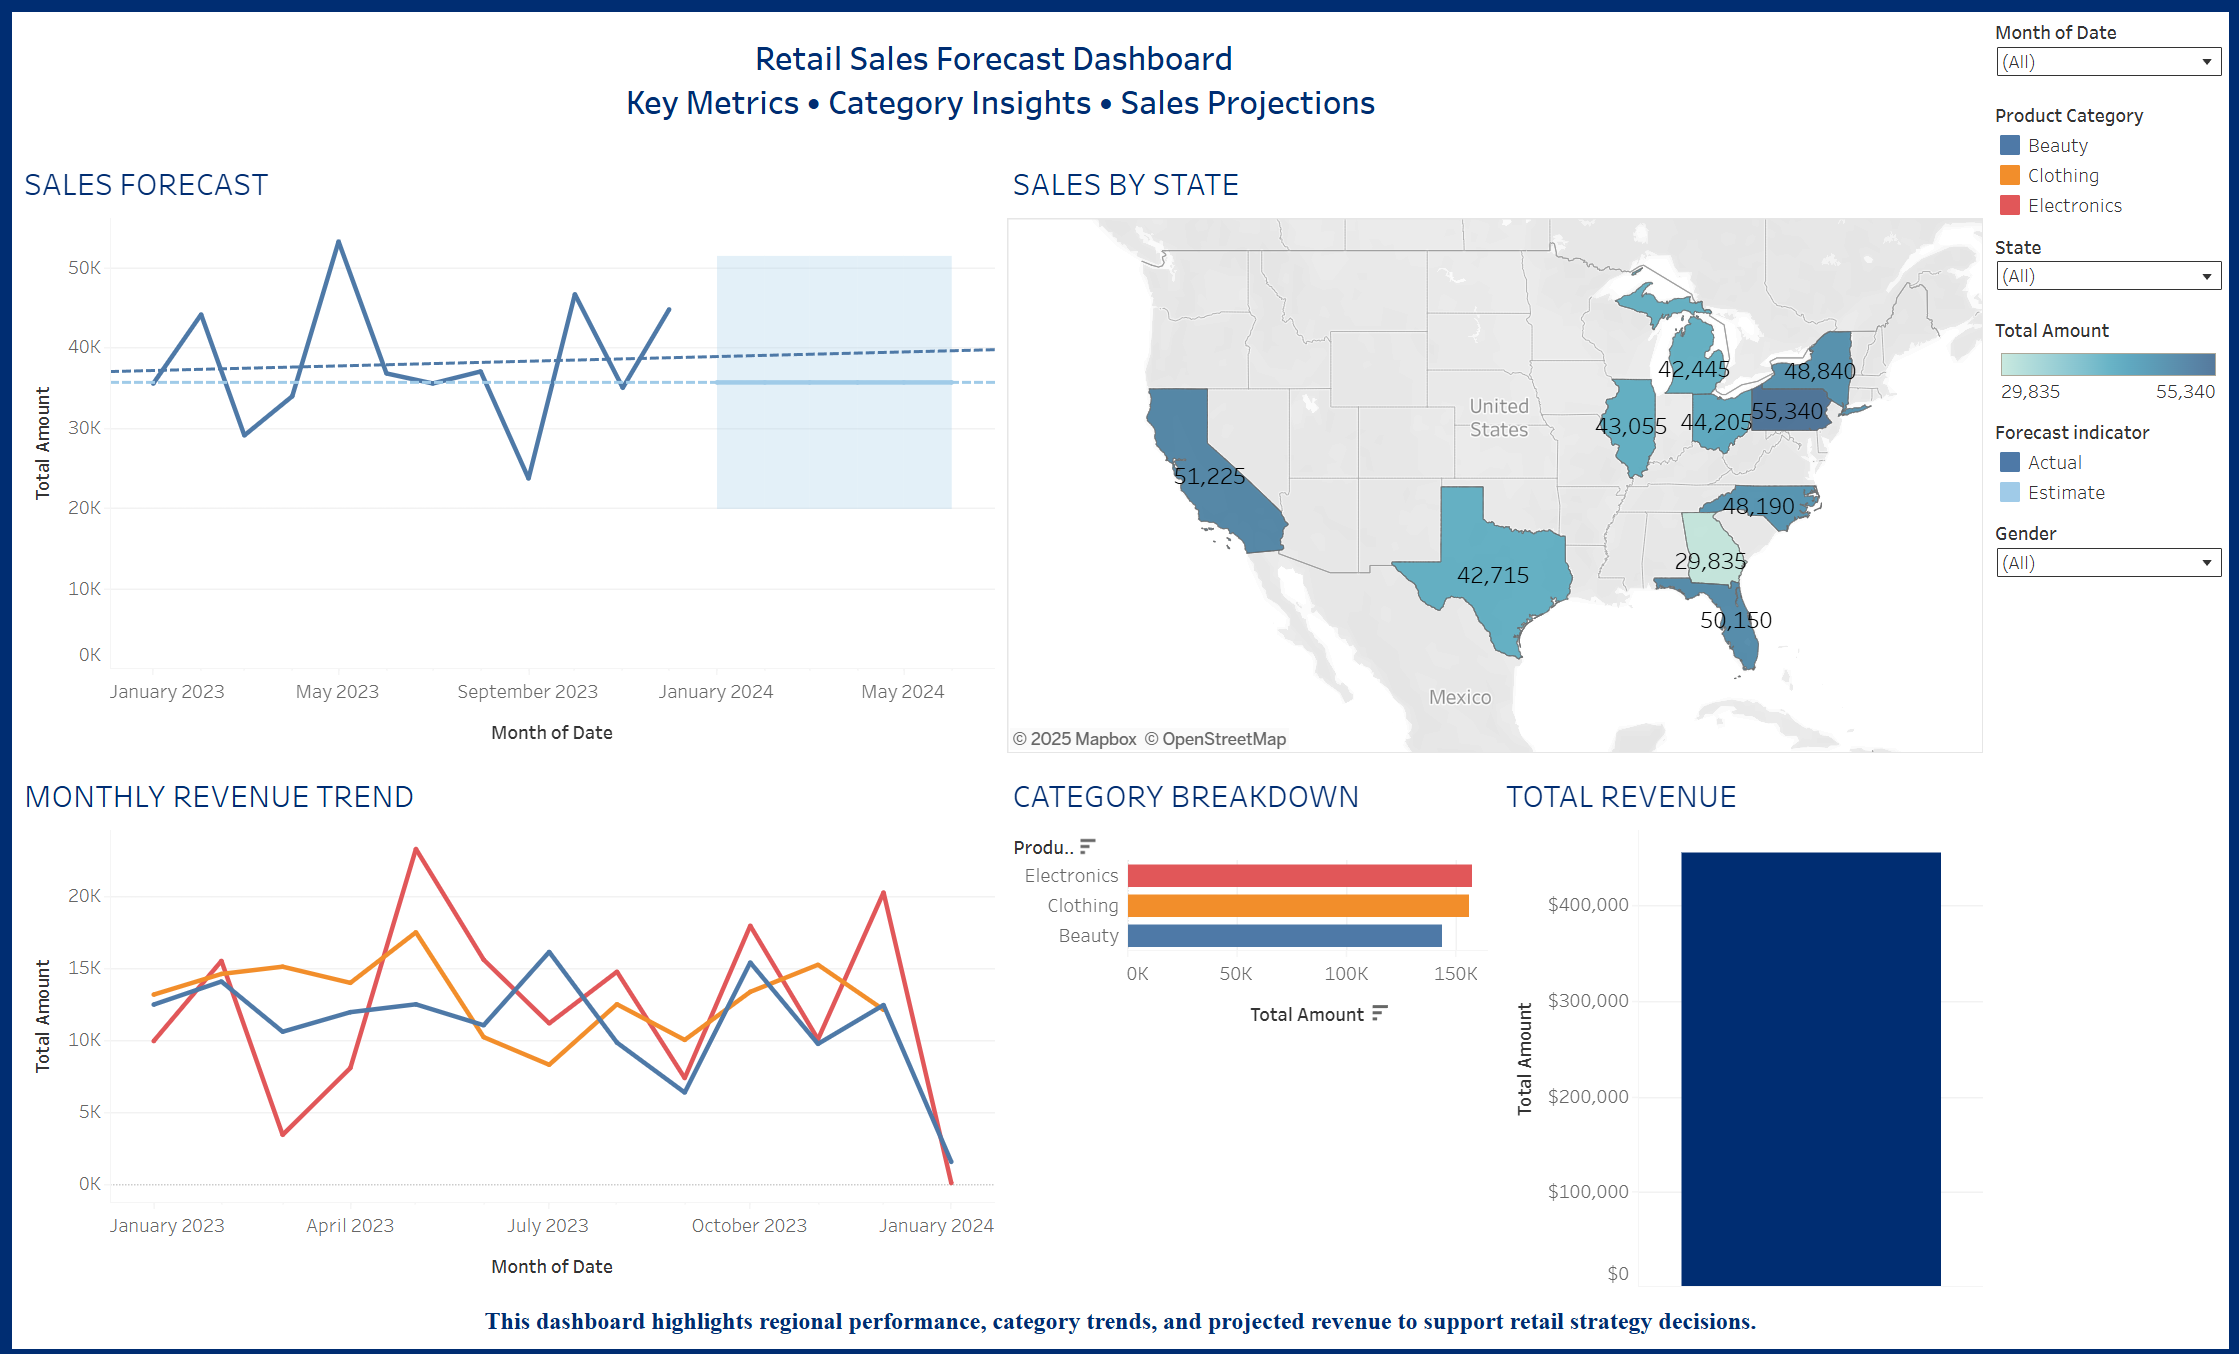

Layout of this report page (visuals, bound fields, positions):
{"tool":"tableau","page":{"name":"RETAIL SALES FORECAST DASHBOARD","canvas":[1000,1000],"units":"permille","ordinal":0},"visuals":[{"type":"text","box":[4.4,7.6,902.2,92.4]},{"type":"filter","title":"MONTHLY REVENUE TREND","param":"[federated.01acn7m1i89e54185iqfo0nwxvay].[mn:Date:ok]","box":[906.7,7.6,88.9,66.7]},{"type":"legend","title":"MONTHLY REVENUE TREND","param":"[federated.01acn7m1i89e54185iqfo0nwxvay].[none:Product Category:nk]","box":[906.7,74.3,88.9,103.8]},{"type":"worksheet","title":"SALES FORECAST","mark":"Automatic","rows":["Total Amount"],"cols":["Date"],"box":[4.4,100,451.1,458.2]},{"type":"worksheet","title":"SALES BY STATE","mark":"Multipolygon","box":[455.6,100,451.1,458.2]},{"type":"filter","title":"SALES BY STATE","param":"[federated.01acn7m1i89e54185iqfo0nwxvay].[none:State:nk]","box":[906.7,178.1,88.9,66.7]},{"type":"legend","title":"SALES BY STATE","param":"[federated.01acn7m1i89e54185iqfo0nwxvay].[sum:Total Amount:qk]","box":[906.7,244.8,88.9,77.1]},{"type":"legend","title":"SALES FORECAST","param":"[federated.01acn7m1i89e54185iqfo0nwxvay].[none:Forecast Indicator:nk]","box":[906.7,321.9,88.9,80]},{"type":"filter","title":"TOTAL REVENUE","param":"[federated.01acn7m1i89e54185iqfo0nwxvay].[none:Gender:nk]","box":[906.7,401.9,88.9,66.7]},{"type":"worksheet","title":"MONTHLY REVENUE TREND","mark":"Automatic","rows":["Total Amount"],"cols":["Date"],"box":[4.4,558.2,451.1,393.2]},{"type":"worksheet","title":"CATEGORY BREAKDOWN","mark":"Automatic","rows":["Product Category"],"cols":["Total Amount"],"box":[455.6,558.2,225.6,393.2]},{"type":"worksheet","title":"TOTAL REVENUE","mark":"Automatic","rows":["Total Amount"],"box":[681.1,558.2,225.6,393.2]},{"type":"text","box":[4.4,951.4,991.1,41]}]}

Visuals, with their boxes on the dashboard's canvas, which has no fixed pixel size, in thousandths of its width and height (x1, y1, x2, y2). These are canvas units, not pixel positions in the 2239x1354 screenshot, which may show the page scaled, cropped or inside an application window:
text: box(4, 8, 907, 100)
"MONTHLY REVENUE TREND" filter: box(907, 8, 996, 74)
"MONTHLY REVENUE TREND" legend: box(907, 74, 996, 178)
"SALES FORECAST" worksheet: box(4, 100, 456, 558)
"SALES BY STATE" worksheet (Multipolygon marks): box(456, 100, 907, 558)
"SALES BY STATE" filter: box(907, 178, 996, 245)
"SALES BY STATE" legend: box(907, 245, 996, 322)
"SALES FORECAST" legend: box(907, 322, 996, 402)
"TOTAL REVENUE" filter: box(907, 402, 996, 469)
"MONTHLY REVENUE TREND" worksheet: box(4, 558, 456, 951)
"CATEGORY BREAKDOWN" worksheet: box(456, 558, 681, 951)
"TOTAL REVENUE" worksheet: box(681, 558, 907, 951)
text: box(4, 951, 996, 992)
